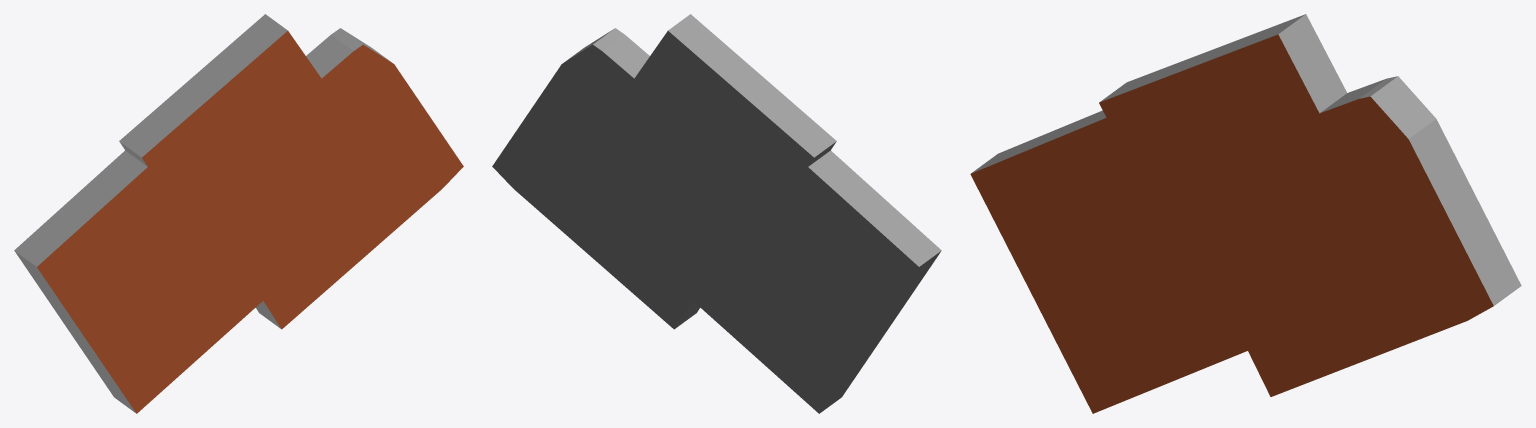
The model's file is construction_2054_assumed_A_Casa_h6m.obj.
3 renders of one model, left to right at view 1: azimuth 30°, elevation 25°; view 2: azimuth 150°, elevation 25°; view 3: azimuth 330°, elevation 25°, orthographic. The views are drawn at different scales.
Parts seen in each view (by area): view 1: construction_2054_assumed_A_Casa; view 2: construction_2054_assumed_A_Casa; view 3: construction_2054_assumed_A_Casa.
Boxes of the visible parts, x1=… form: construction_2054_assumed_A_Casa: x1=14, y1=14, x2=463, y2=413; construction_2054_assumed_A_Casa: x1=492, y1=14, x2=941, y2=413; construction_2054_assumed_A_Casa: x1=970, y1=14, x2=1521, y2=413.
Size of the model in its own units: 65.21 by 50.56 by 6.
